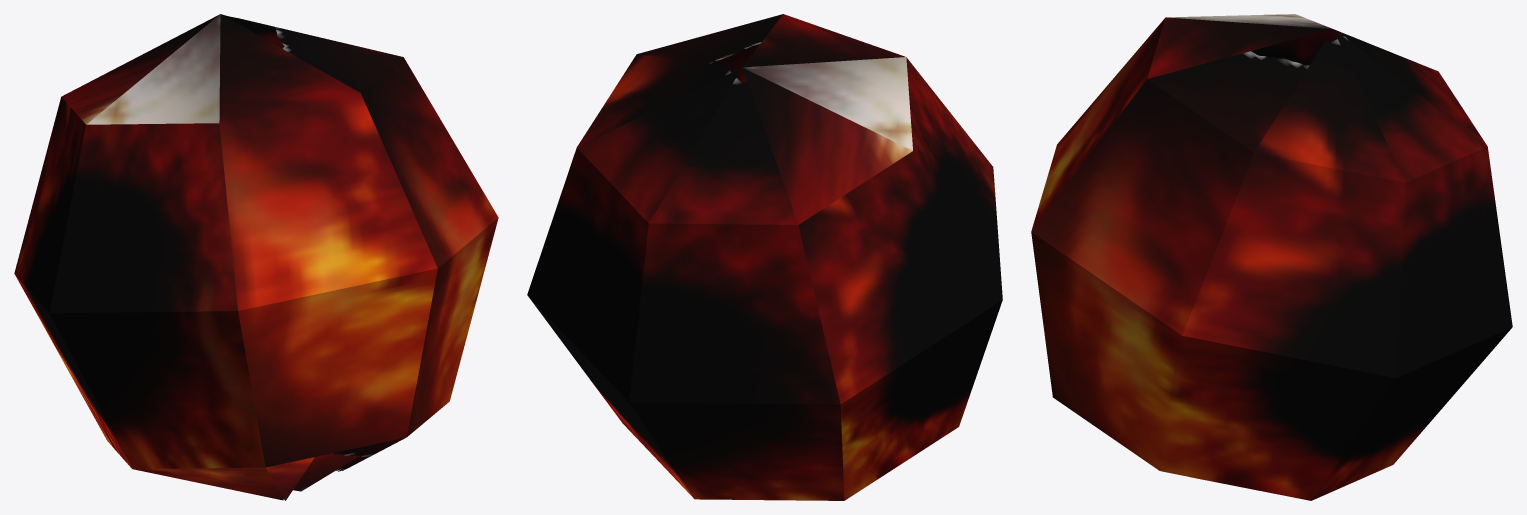
The model's file is eye.obj.
3 views of the same model, side by side, from view 1: azimuth 30°, elevation 25°; view 2: azimuth 150°, elevation 25°; view 3: azimuth 270°, elevation 25° (orthographic). The views are drawn at different scales.
Visible parts, largest first — view 1: eye_l_Sphere.001; view 2: eye_l_Sphere.001; view 3: eye_l_Sphere.001.
Part boxes in pixels (<box>): eye_l_Sphere.001: <box>14,14,498,500</box>; eye_l_Sphere.001: <box>527,14,1002,500</box>; eye_l_Sphere.001: <box>1031,14,1512,500</box>.
Size of the model in its own units: 0.2049 by 0.2045 by 0.1983.
